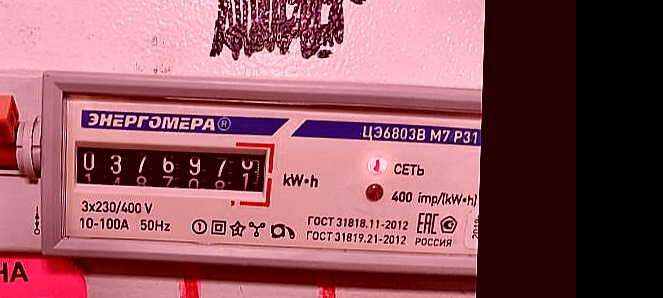0: (82, 149, 96, 171)
1: (239, 171, 252, 191)
3: (109, 153, 124, 175)
6: (161, 150, 176, 174)
7: (134, 150, 149, 174), (215, 155, 229, 178)
9: (187, 153, 202, 176)
screen: (65, 131, 278, 211)
